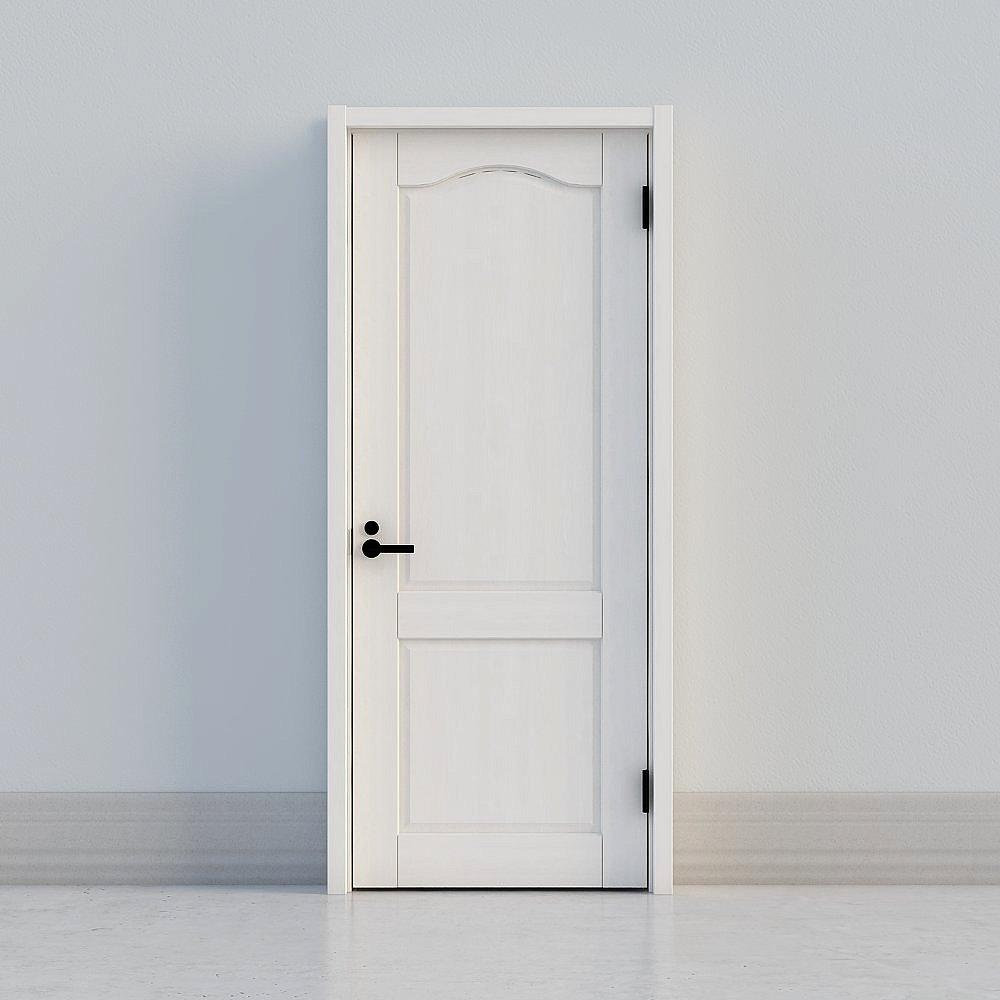door: (349, 121, 656, 892)
